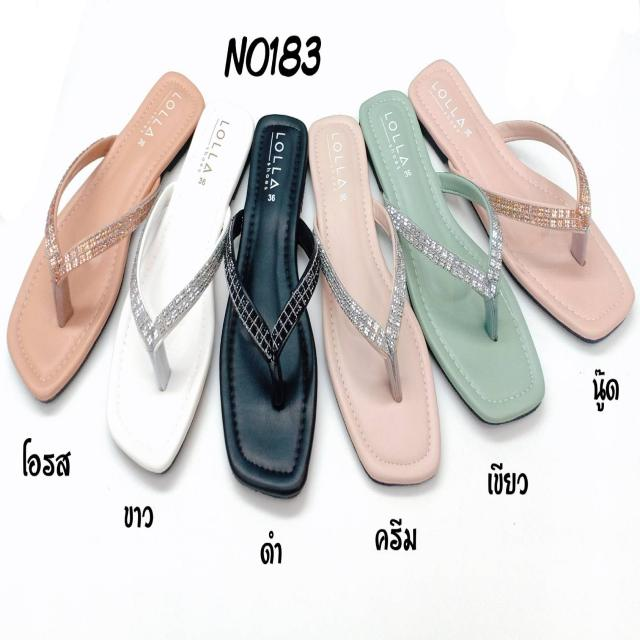black: (223, 115, 318, 500)
cream: (311, 120, 438, 486)
green: (362, 95, 537, 422)
nood: (410, 64, 630, 336)
orot: (5, 68, 202, 400)
white: (104, 99, 251, 464)
